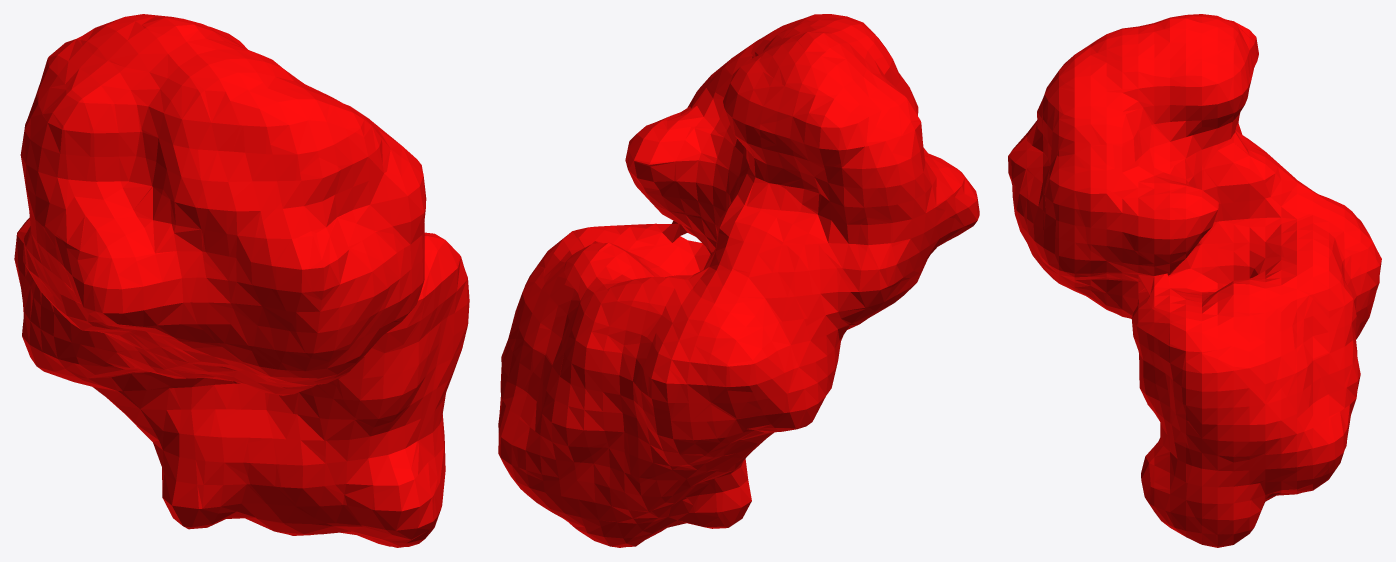
File: holB_coarse.dae
3 views of the same model, side by side, from view 1: azimuth 30°, elevation 25°; view 2: azimuth 150°, elevation 25°; view 3: azimuth 270°, elevation 25° (orthographic). The views are drawn at different scales.
Visible parts, largest first — view 1: holB; view 2: holB; view 3: holB.
Part boxes in pixels (x1,y1,x2,y2): holB: (14,14,469,547); holB: (498,14,979,547); holB: (1008,14,1381,547).
Bounding box in the file's own units: 57.34 × 73.29 × 56.5.
